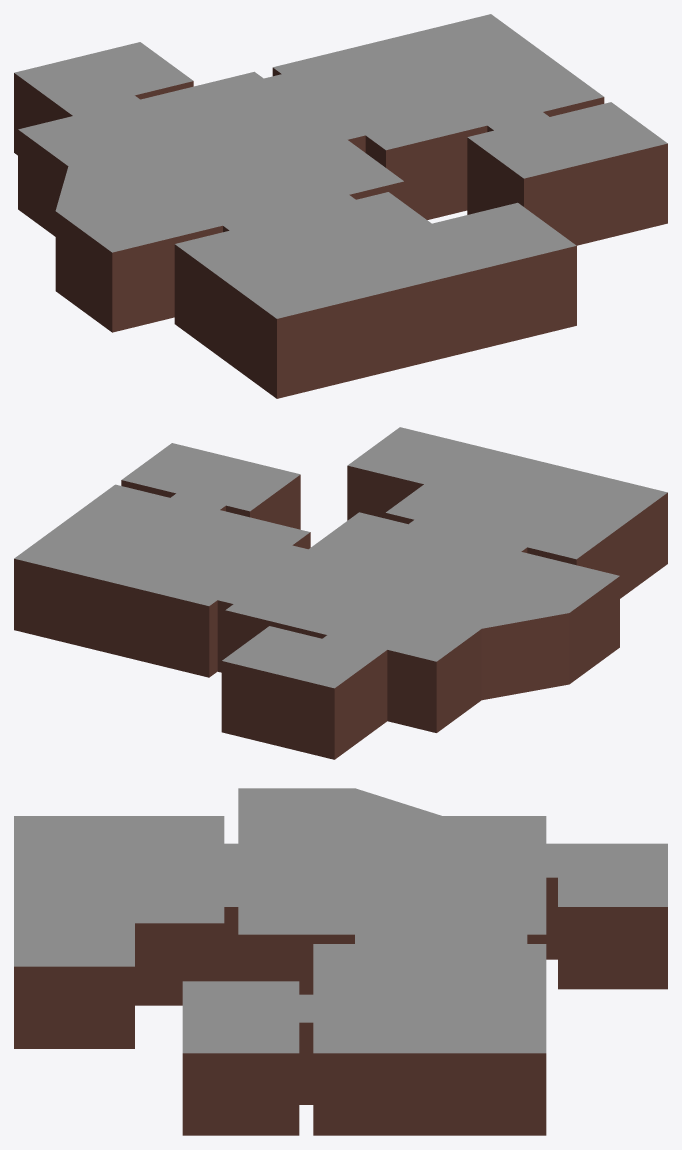
Rendered from Layout3.fbx.
3 renders of one model, top to bottom at view 1: azimuth 30°, elevation 25°; view 2: azimuth 150°, elevation 25°; view 3: azimuth 270°, elevation 25°, orthographic. The views are drawn at different scales.
Visible parts, largest first — view 1: Layout3; view 2: Layout3; view 3: Layout3.
Part boxes in pixels (<box>): Layout3: <box>14,14,667,398</box>; Layout3: <box>14,427,667,759</box>; Layout3: <box>14,788,667,1135</box>.
Bounding box in the file's own units: 19.6 × 2.83 × 20.42.
